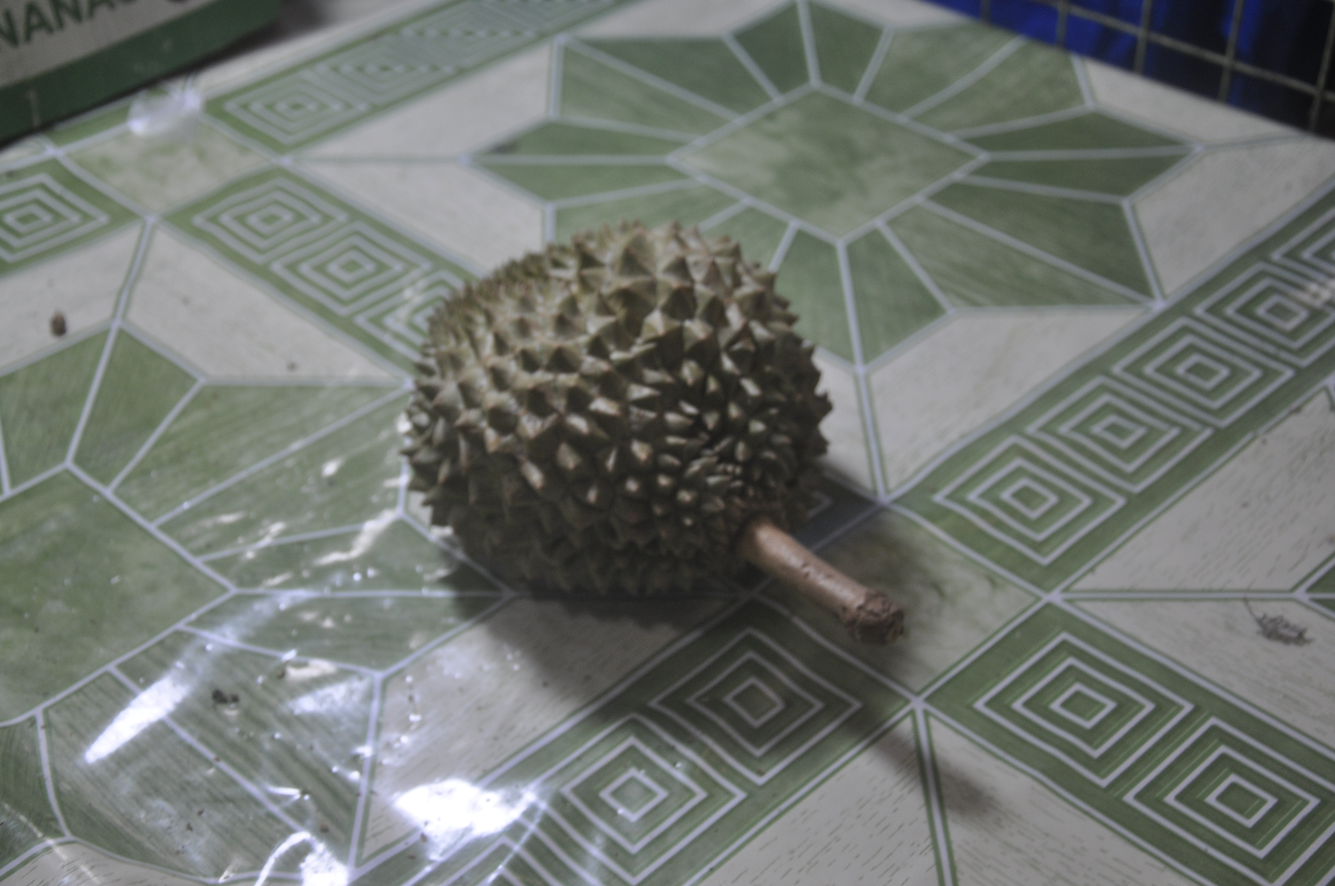mature: (405, 222, 829, 593)
